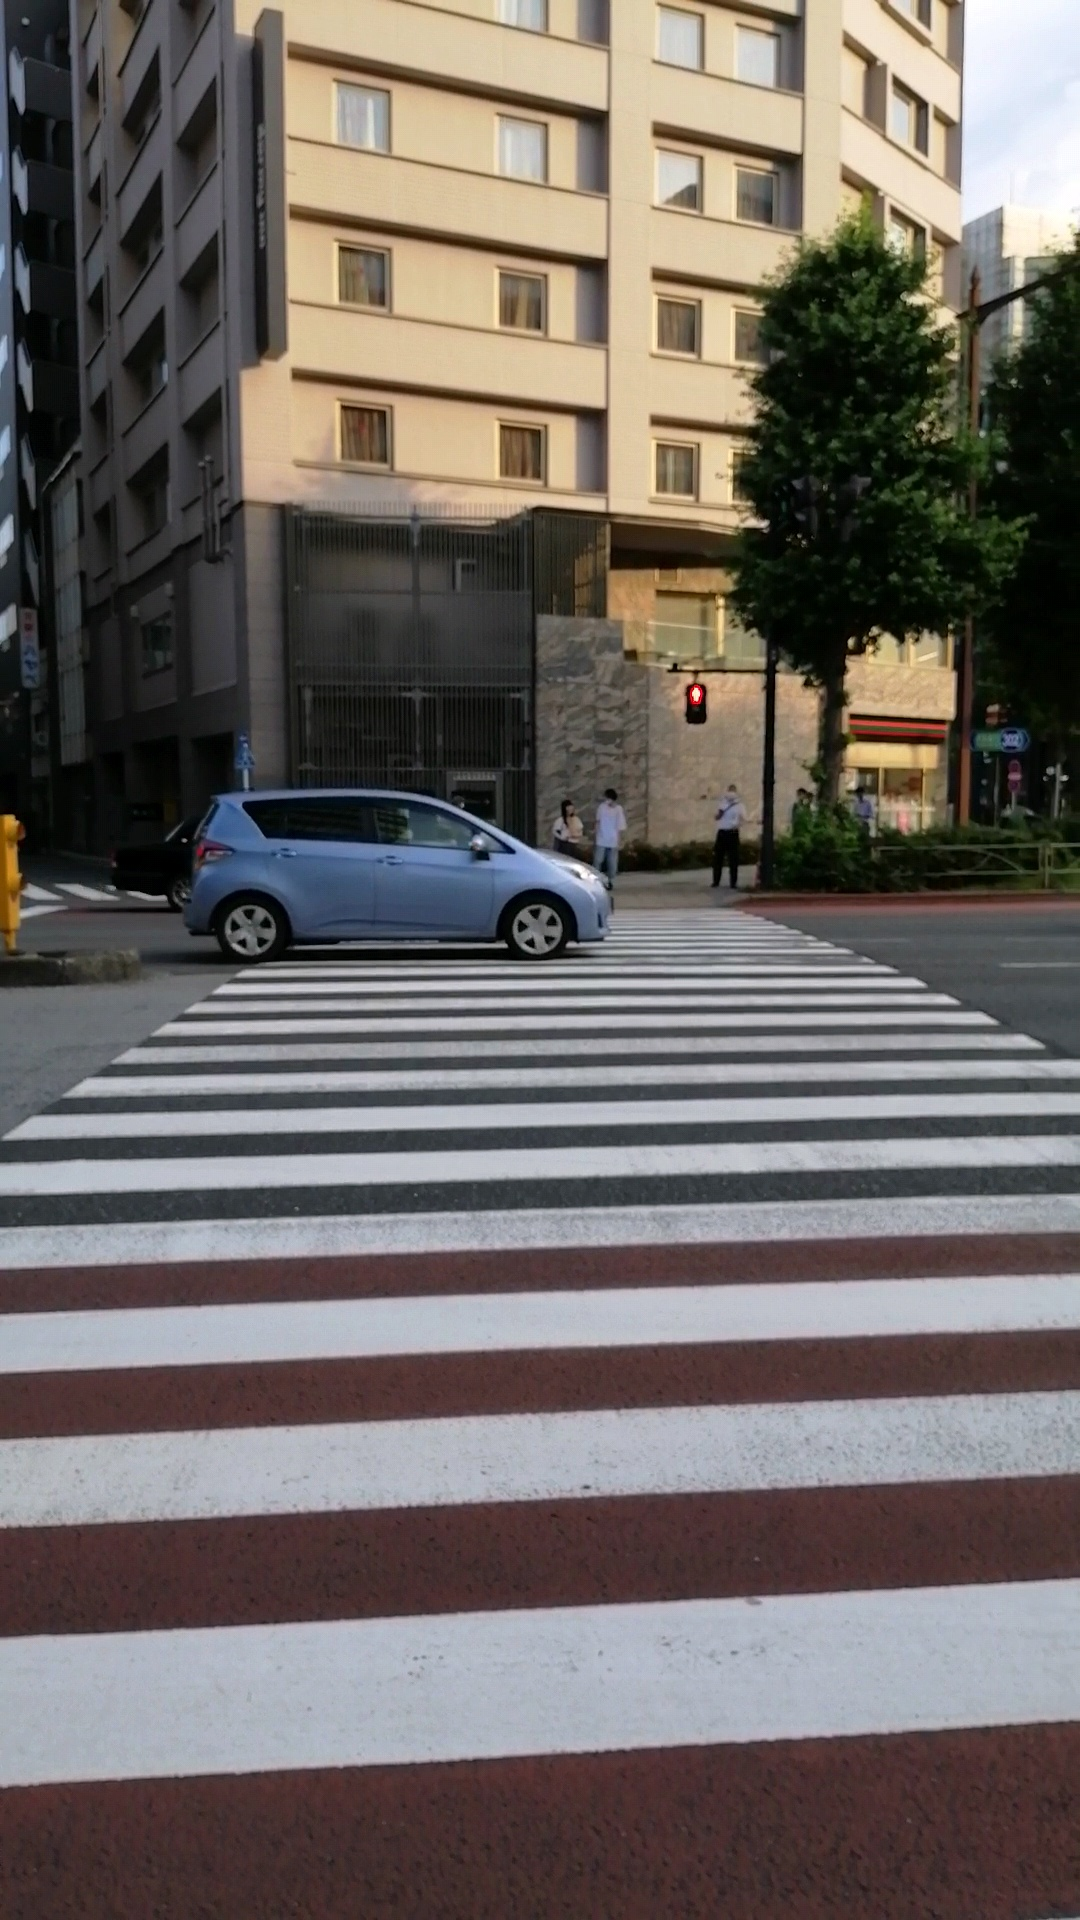red: (684, 680, 705, 724)
